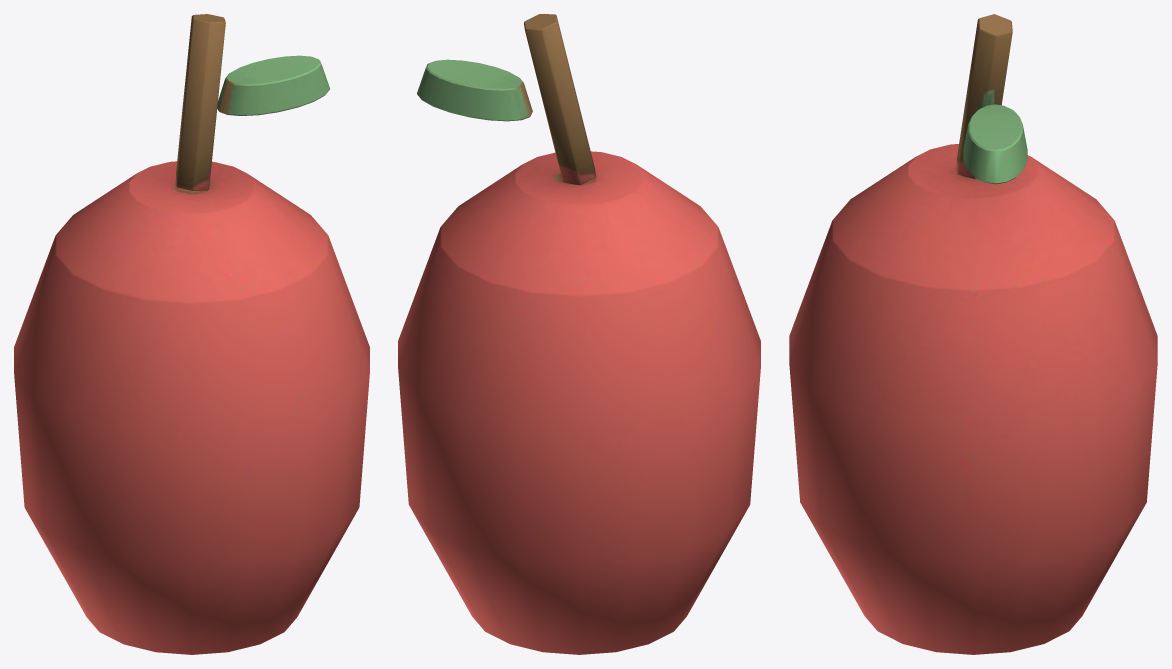
The model's file is IT_apple.glb.
The picture shows the model from 3 angles, left to right: view 1: azimuth 30°, elevation 25°; view 2: azimuth 150°, elevation 25°; view 3: azimuth 270°, elevation 25°; orthographic projection. The views are drawn at different scales.
Visible parts, largest first — view 1: IT_apple; view 2: IT_apple; view 3: IT_apple.
Boxes of the visible parts, left/top/right/bottom form: IT_apple: left=14, top=14, right=369, bottom=654; IT_apple: left=398, top=14, right=760, bottom=654; IT_apple: left=789, top=14, right=1157, bottom=654.
Bounding box in the file's own units: 0.34 × 0.6032 × 0.3348.
Materials: 1 (1 with a texture image).
